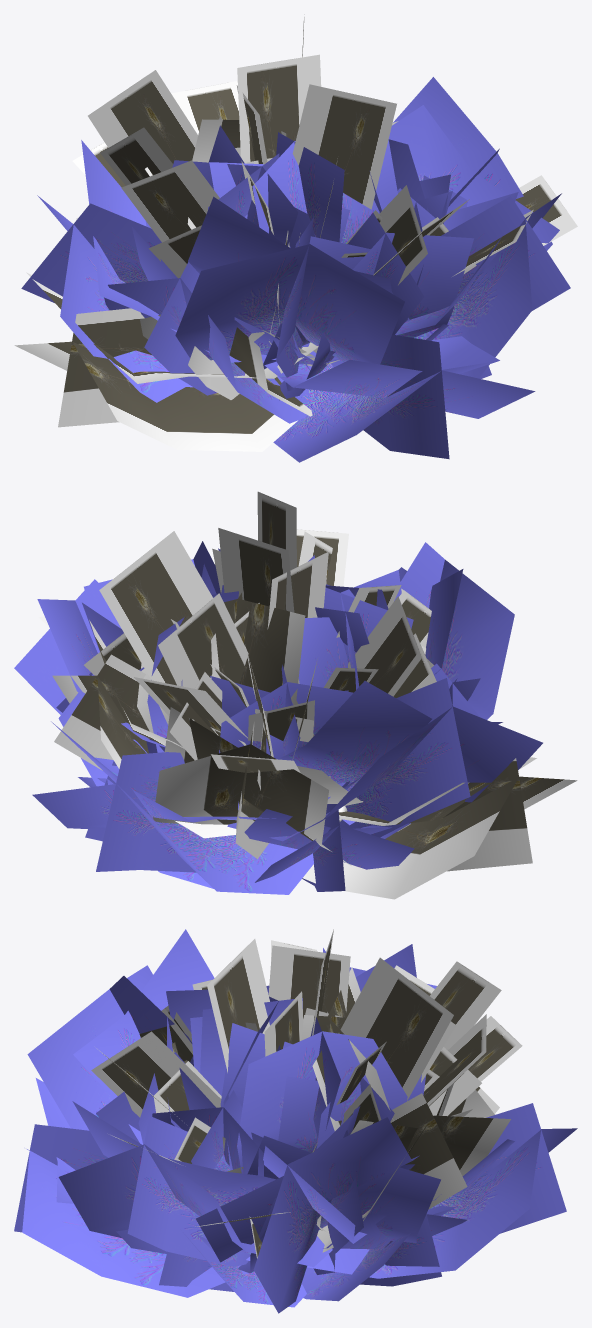
Rendered from Bush_DryFlower00 Variant.fbx.
The picture shows the model from 3 angles, top to bottom: view 1: azimuth 30°, elevation 25°; view 2: azimuth 150°, elevation 25°; view 3: azimuth 270°, elevation 25°; orthographic projection.
Visible parts, largest first — view 1: Bush29, Bush01, Bush03, Bush31, Bush02, Bush30, Bush14, Bush12, Bush16, Flower012, Flower019, Flower (+14 smaller); view 2: Bush31, Bush00, Bush03, Bush13, Bush29, Flower018, Bush28, Bush30, Bush07, Bush17, Flower020, Bush18 (+21 smaller); view 3: Bush02, Bush30, Bush00, Bush29, Bush01, Bush19, Flower018, Bush28, Bush15, Bush04, Bush23, Flower012 (+20 smaller).
Boxes of the visible parts, x1,y1,x2,y2 form: Bush29: (175, 196, 410, 390); Bush01: (262, 334, 535, 462); Bush03: (14, 272, 318, 451); Bush31: (21, 140, 316, 402); Bush02: (302, 192, 570, 378); Bush30: (388, 77, 559, 250); Bush14: (104, 227, 339, 423); Bush12: (279, 213, 473, 400); Bush16: (209, 132, 397, 247); Flower012: (292, 84, 396, 237); Flower019: (237, 54, 321, 163); Flower: (88, 70, 197, 176); Bush31: (227, 678, 542, 841); Bush00: (32, 721, 345, 894); Bush03: (303, 757, 577, 899); Bush13: (153, 707, 363, 865); Bush29: (342, 542, 514, 825); Flower018: (99, 531, 212, 685); Bush28: (52, 620, 236, 838); Bush30: (14, 579, 165, 747); Bush07: (244, 804, 414, 891); Bush17: (137, 593, 330, 777); Flower020: (158, 593, 249, 707); Bush18: (298, 570, 413, 788); Bush02: (58, 1101, 332, 1267); Bush30: (196, 1106, 419, 1313); Bush00: (307, 1103, 577, 1278); Bush29: (27, 929, 214, 1144); Bush01: (14, 1078, 247, 1297); Bush19: (220, 1017, 407, 1173); Flower018: (312, 957, 453, 1152); Bush28: (317, 1093, 510, 1252); Bush15: (238, 1130, 440, 1274); Bush04: (301, 1206, 467, 1301); Bush23: (152, 1068, 263, 1176); Flower012: (207, 939, 269, 1072).
Size of the model in its own units: 263 by 189 by 266.
